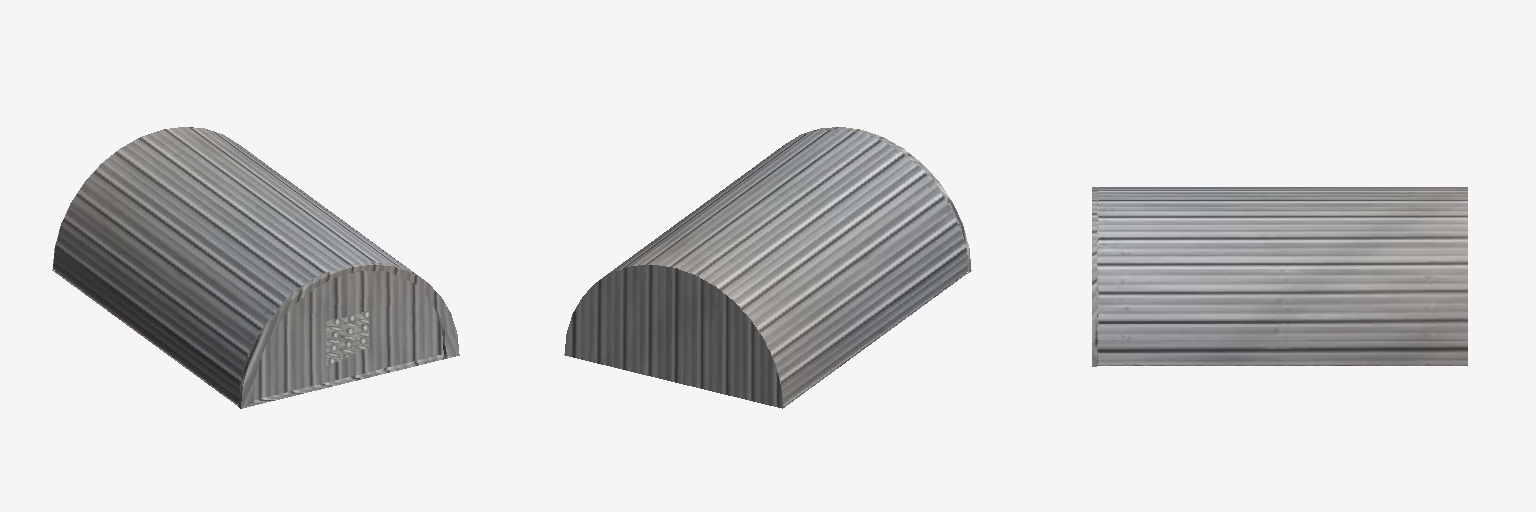
The picture shows the model from 3 angles: view 1: azimuth 30°, elevation 25°; view 2: azimuth 150°, elevation 25°; view 3: azimuth 270°, elevation 25°; orthographic projection.
Parts seen in each view (by area): view 1: Cylinder; view 2: Cylinder; view 3: Cylinder.
Part boxes in pixels (left/top/right/bottom): Cylinder: left=52, top=127, right=459, bottom=408; Cylinder: left=564, top=127, right=971, bottom=408; Cylinder: left=1092, top=187, right=1467, bottom=366.
Size of the model in its own units: 6.63 by 3.32 by 9.89.
Materials: 1 (1 with a texture image).